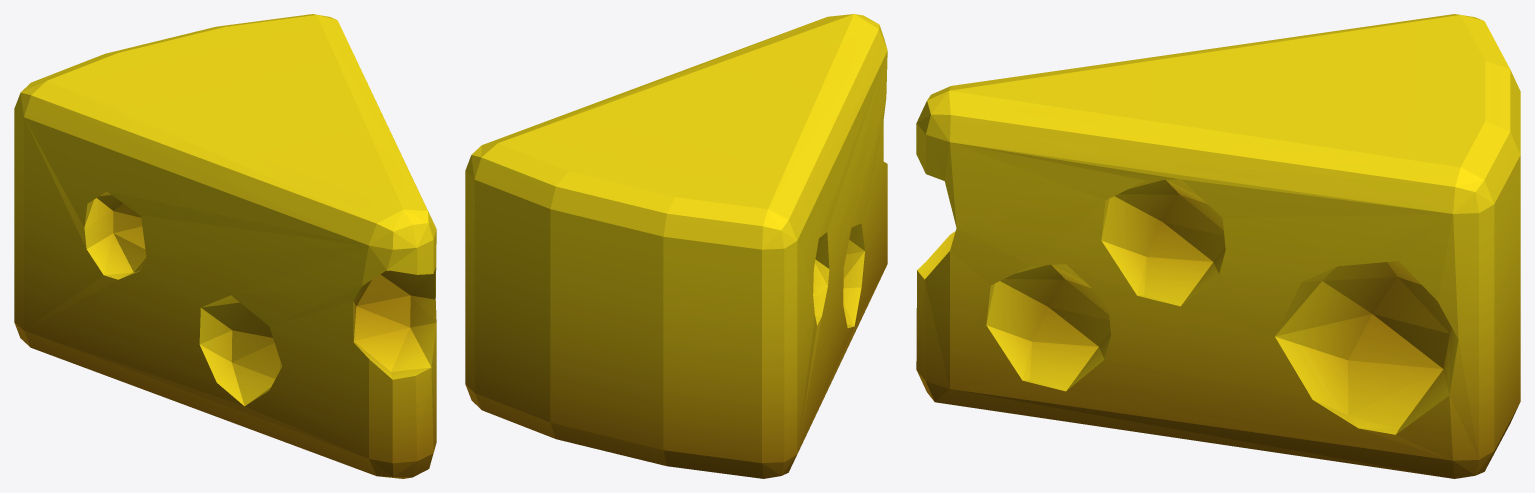
The model's file is cheese.glb.
The picture shows the model from 3 angles, left to right: view 1: azimuth 30°, elevation 25°; view 2: azimuth 150°, elevation 25°; view 3: azimuth 270°, elevation 25°; orthographic projection. The views are drawn at different scales.
Parts seen in each view (by area): view 1: Cheese; view 2: Cheese; view 3: Cheese.
Boxes of the visible parts, x1,y1,x2,y2 form: Cheese: (14,14,436,478); Cheese: (465,14,887,478); Cheese: (916,14,1520,478).
Bounding box in the file's own units: 1.14 × 0.9109 × 1.6.
1 material, 1 textured.
